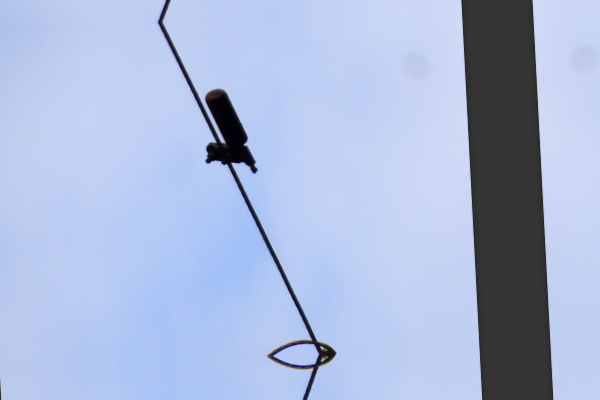damper_defect: (200, 86, 259, 178)
